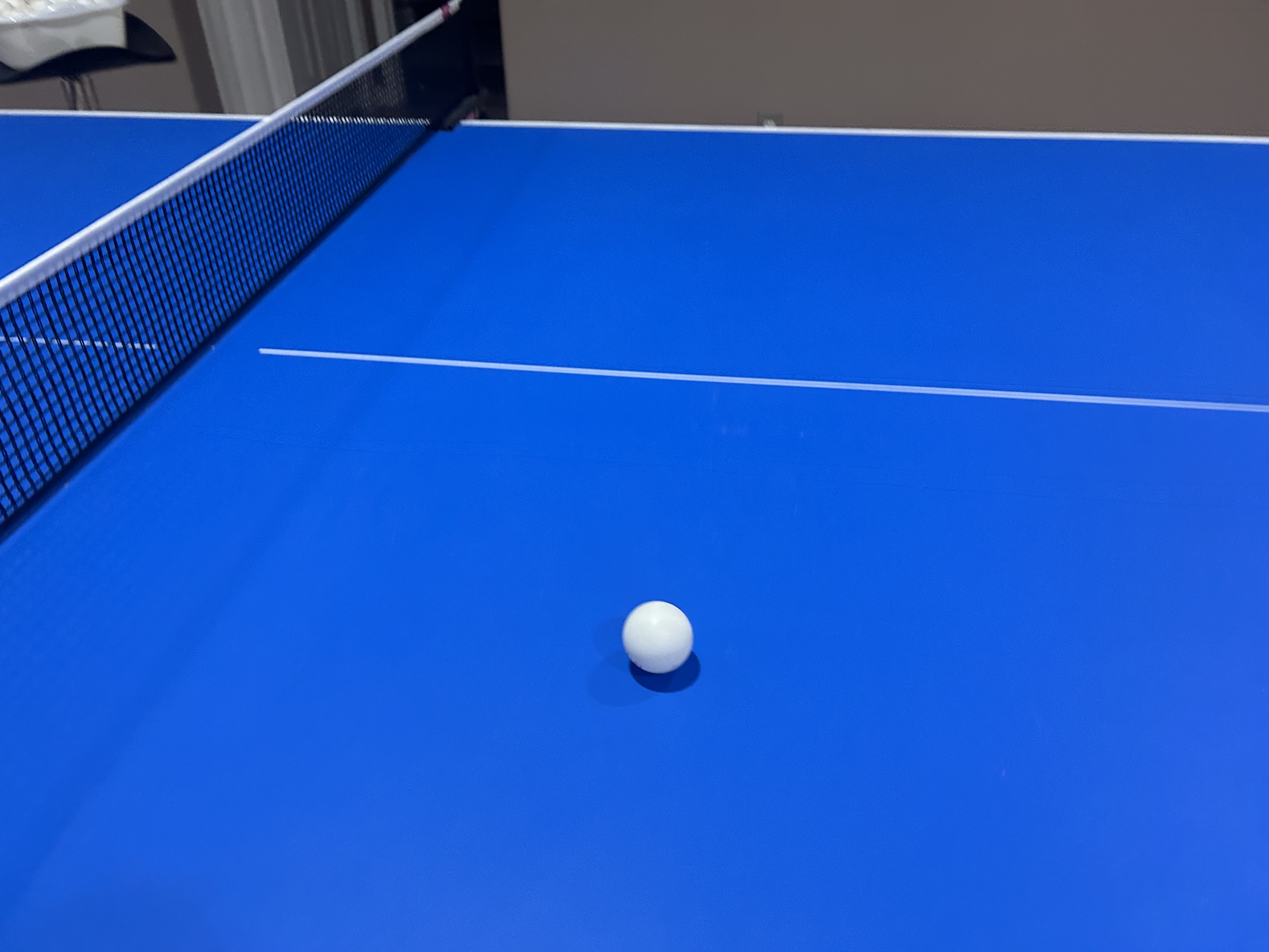Ball: (616, 595, 702, 677)
